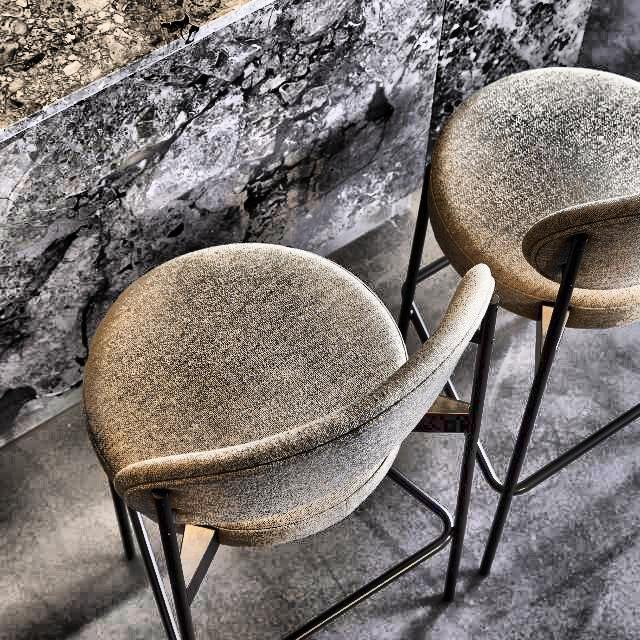cadeira: (81, 234, 498, 574), (407, 62, 640, 457)
